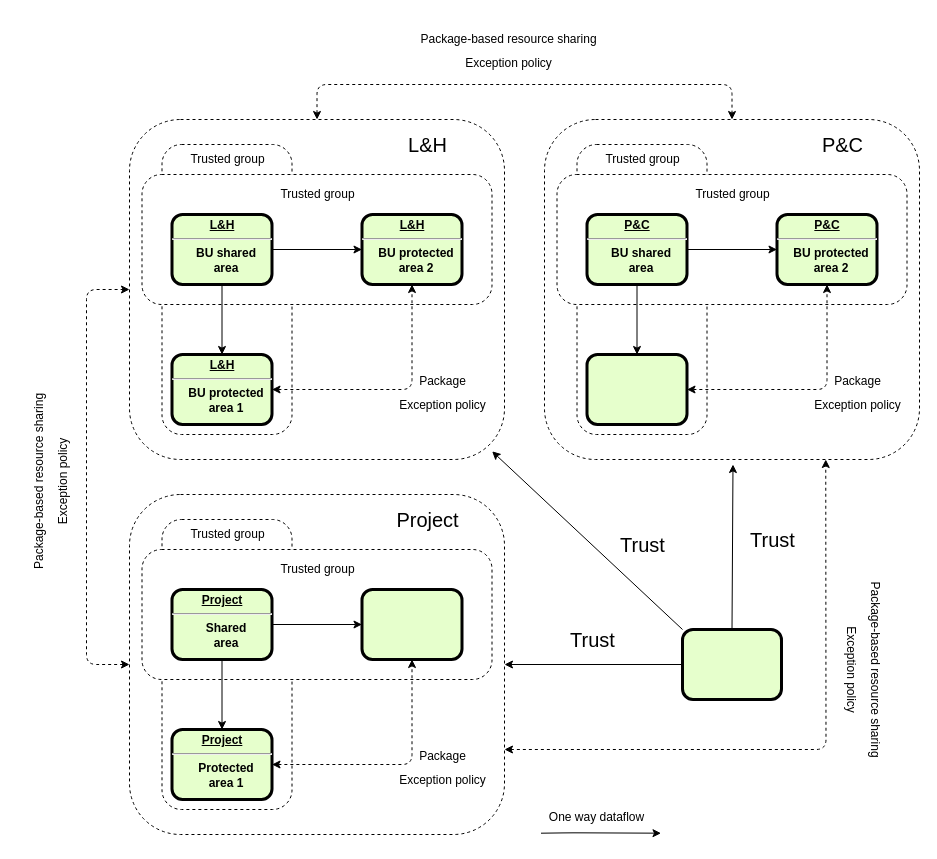
This 937x859 diagram has some shape labels left out. The centre of each missing label's shape, as x and y in pixels:
P&C BU protected area 1: (x=636, y=389)
Project Protected area 2: (x=411, y=624)
SwissRe Public area: (x=731, y=664)
